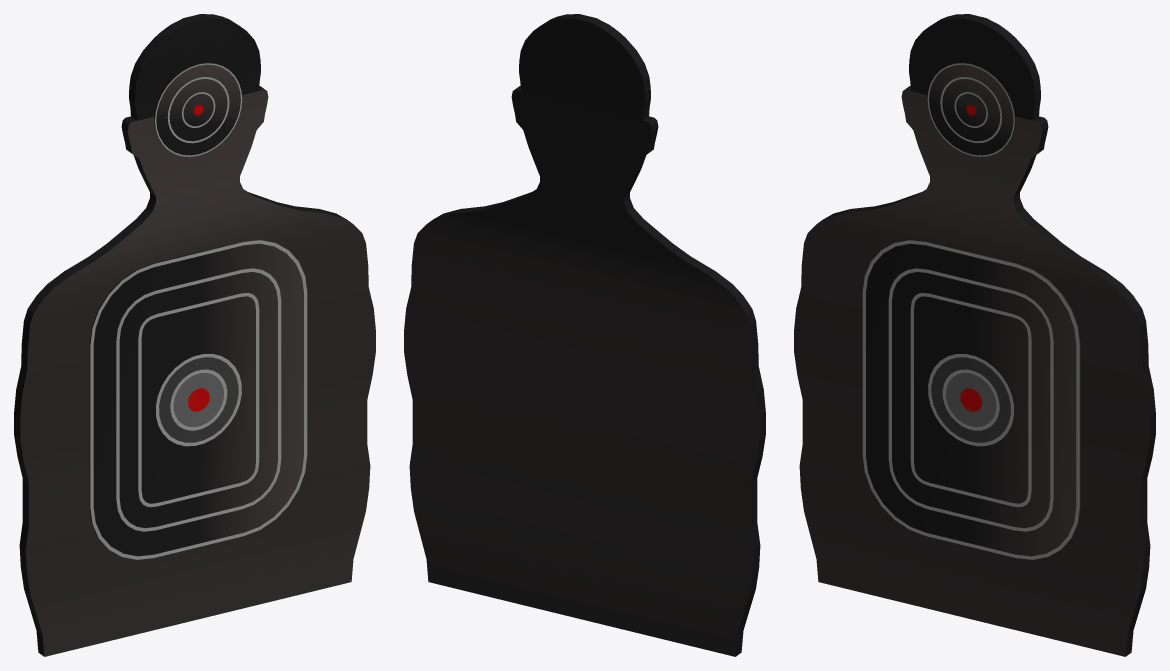
Rendered from Target2.fbx.
3 views of the same model, side by side, from view 1: azimuth 30°, elevation 25°; view 2: azimuth 150°, elevation 25°; view 3: azimuth 330°, elevation 25° (orthographic).
Visible parts, largest first — view 1: Target_Person; view 2: Target_Person; view 3: Target_Person.
Boxes of the visible parts, x1,y1,x2,y2 form: Target_Person: (14, 14, 375, 656); Target_Person: (404, 14, 765, 656); Target_Person: (794, 14, 1155, 656).
Bounding box in the file's own units: 109 × 175 × 3.67.
